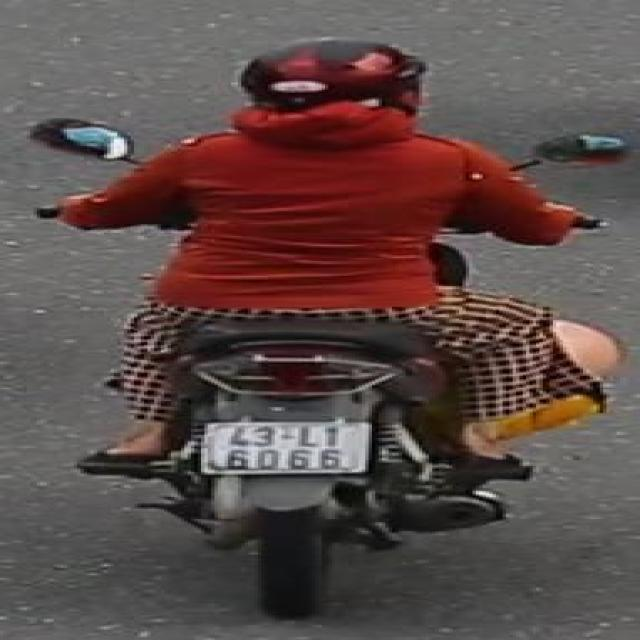LP: (196, 413, 377, 478)
helmet: (228, 31, 439, 130)
